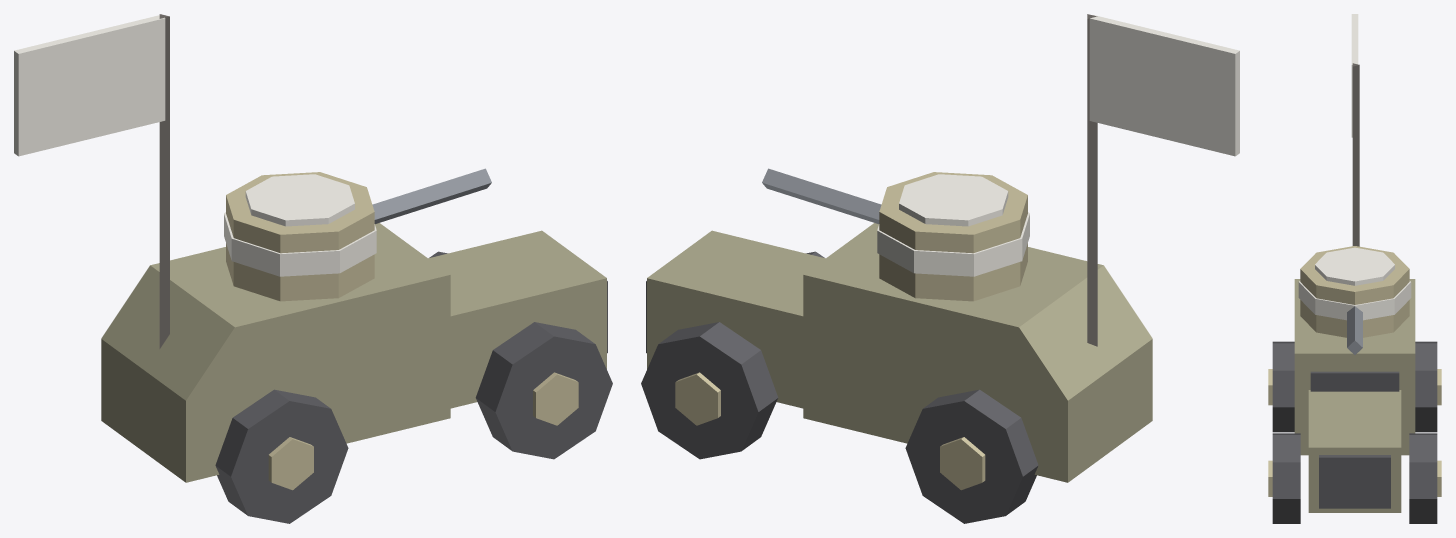
The model's file is formation_flank.glb.
The picture shows the model from 3 angles, left to right: view 1: azimuth 30°, elevation 25°; view 2: azimuth 150°, elevation 25°; view 3: azimuth 270°, elevation 25°; orthographic projection. The views are drawn at different scales.
Visible parts, largest first — view 1: industrial_formation_flank; view 2: industrial_formation_flank; view 3: industrial_formation_flank.
Part boxes in pixels (x1,y1,x2,y2): industrial_formation_flank: (14,14,612,523); industrial_formation_flank: (641,14,1239,523); industrial_formation_flank: (1268,14,1441,523).
Size of the model in its own units: 0.9995 by 0.8127 by 0.3735.
